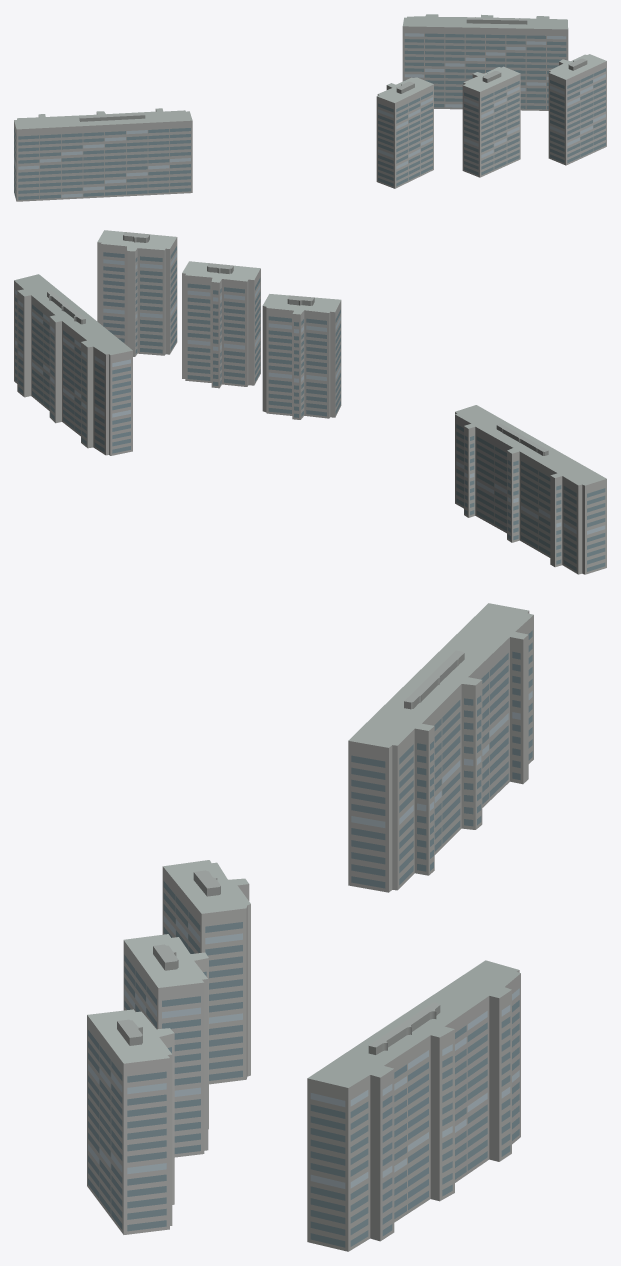
Rendered from apt-a12127002.glb.
The picture shows the model from 3 angles, top to bottom: view 1: azimuth 30°, elevation 25°; view 2: azimuth 150°, elevation 25°; view 3: azimuth 270°, elevation 25°; orthographic projection. The views are drawn at different scales.
Visible parts, largest first — view 1: apt-a12127002; view 2: apt-a12127002; view 3: apt-a12127002.
Part boxes in pixels (left/top/right/bottom): apt-a12127002: left=14, top=14, right=606, bottom=201; apt-a12127002: left=14, top=230, right=606, bottom=574; apt-a12127002: left=87, top=603, right=533, bottom=1251.
Bounding box in the file's own units: 271 × 45 × 102.
